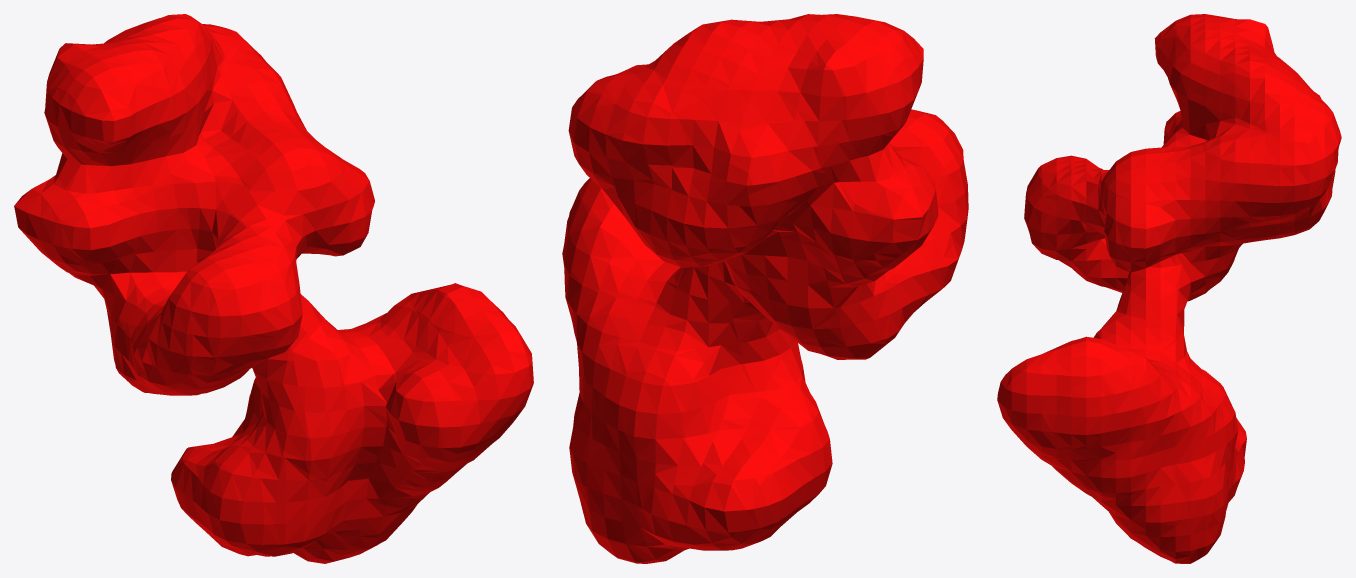
File: ycdY_coarse.dae
3 views of the same model, side by side, from view 1: azimuth 30°, elevation 25°; view 2: azimuth 150°, elevation 25°; view 3: azimuth 270°, elevation 25° (orthographic). The views are drawn at different scales.
Visible parts, largest first — view 1: ycdY; view 2: ycdY; view 3: ycdY.
Part boxes in pixels (left/top/right/bottom): ycdY: left=14, top=14, right=533, bottom=563; ycdY: left=562, top=14, right=968, bottom=563; ycdY: left=997, top=14, right=1341, bottom=563.
Size of the model in its own units: 56 by 72.06 by 49.49.
